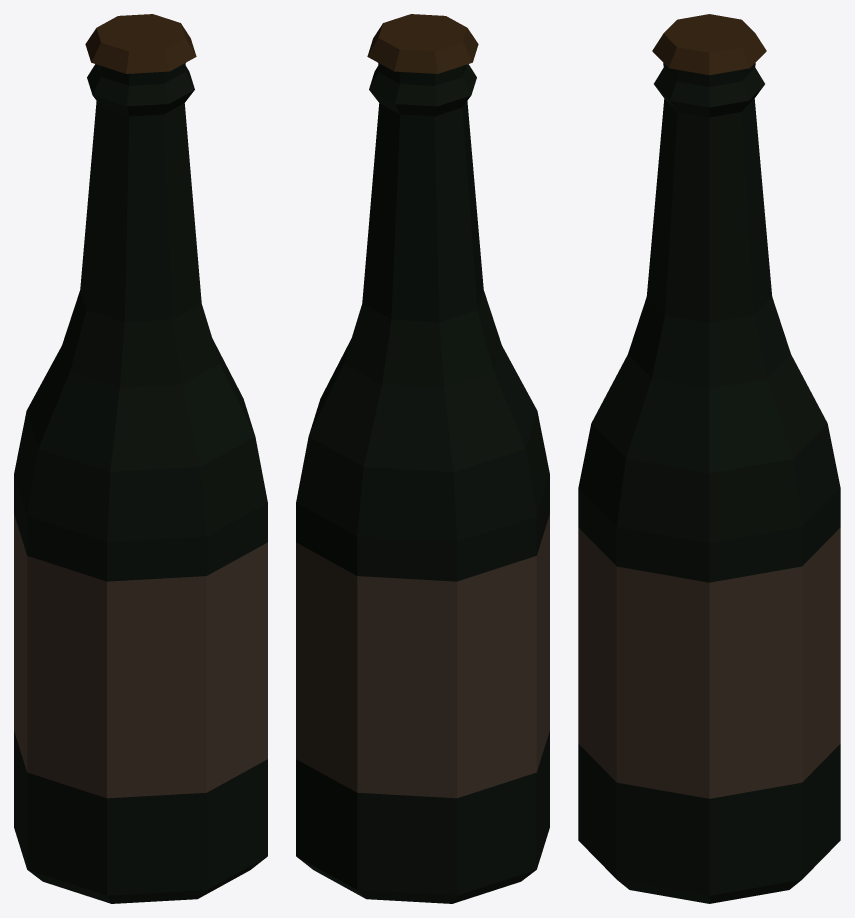
Rendered from Bottle1.obj.
The picture shows the model from 3 angles, left to right: view 1: azimuth 30°, elevation 25°; view 2: azimuth 150°, elevation 25°; view 3: azimuth 270°, elevation 25°; orthographic projection.
Visible parts, largest first — view 1: Bottle1_Cylinder.008; view 2: Bottle1_Cylinder.008; view 3: Bottle1_Cylinder.008.
Part boxes in pixels (x1,y1,x2,y2): Bottle1_Cylinder.008: (14,14,267,903); Bottle1_Cylinder.008: (296,14,549,903); Bottle1_Cylinder.008: (578,14,840,903).
Bounding box in the file's own units: 0.4517 × 1.56 × 0.4517.
